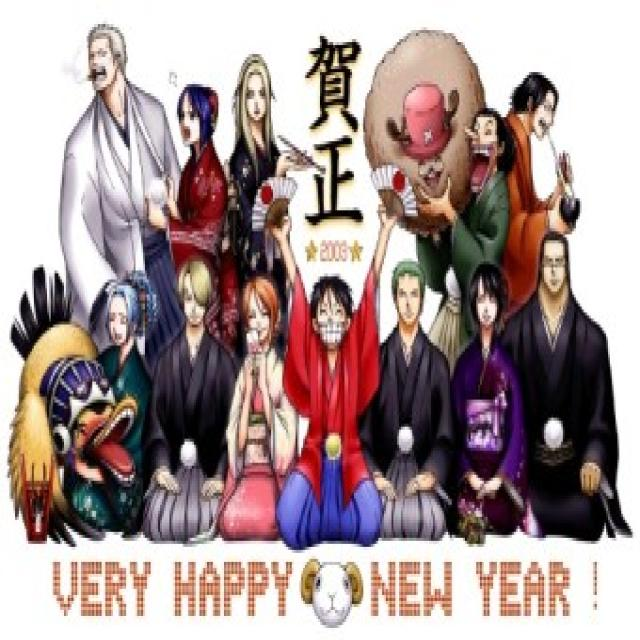Chyopa: (382, 66, 466, 190)
Luffy: (292, 260, 374, 374)
Nami: (230, 268, 286, 366)
Sangdi: (169, 250, 224, 349)
Usopp: (452, 101, 521, 206)
Zoro: (380, 250, 440, 345)
